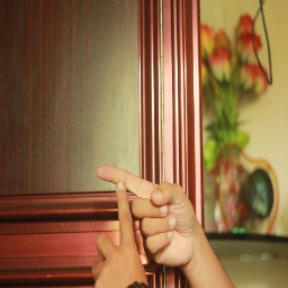T: (86, 157, 171, 274)
